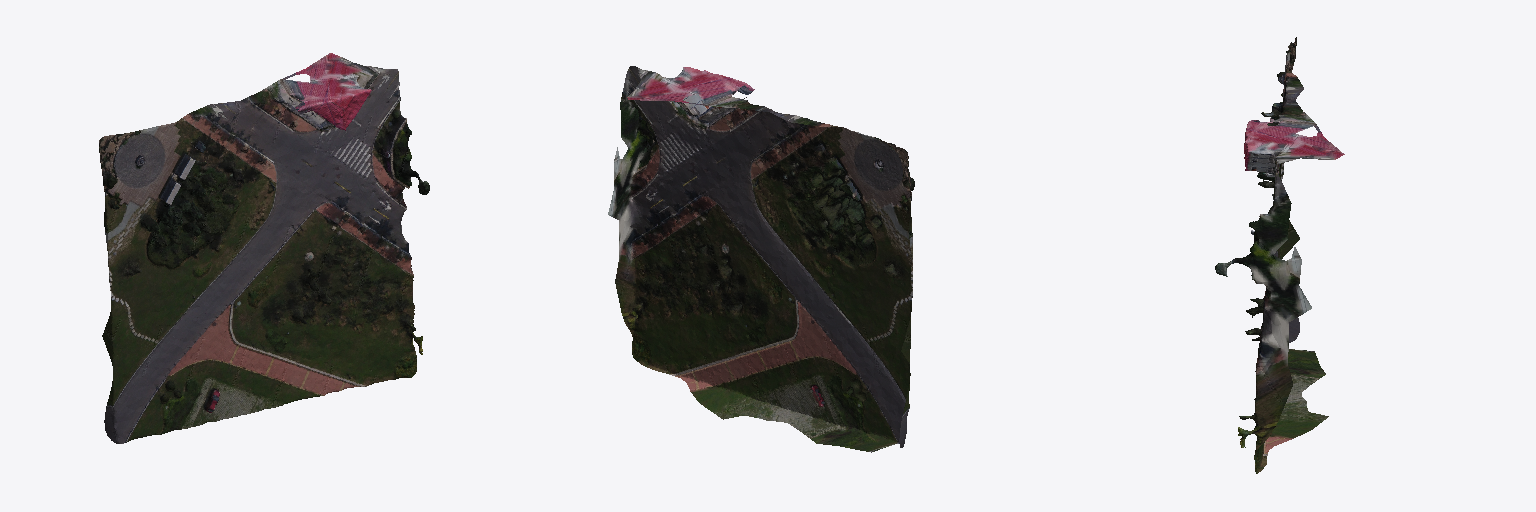
3 views of the same model, side by side, from view 1: azimuth 30°, elevation 25°; view 2: azimuth 150°, elevation 25°; view 3: azimuth 270°, elevation 25° (orthographic).
Visible parts, largest first — view 1: Mesh; view 2: Mesh; view 3: Mesh.
Part boxes in pixels (bbox=[...]): Mesh: bbox=[99, 53, 429, 443]; Mesh: bbox=[608, 66, 914, 452]; Mesh: bbox=[1215, 37, 1344, 473].
Bounding box in the file's own units: 61.56 × 61.55 × 23.26.
1 materials, 1 textured.